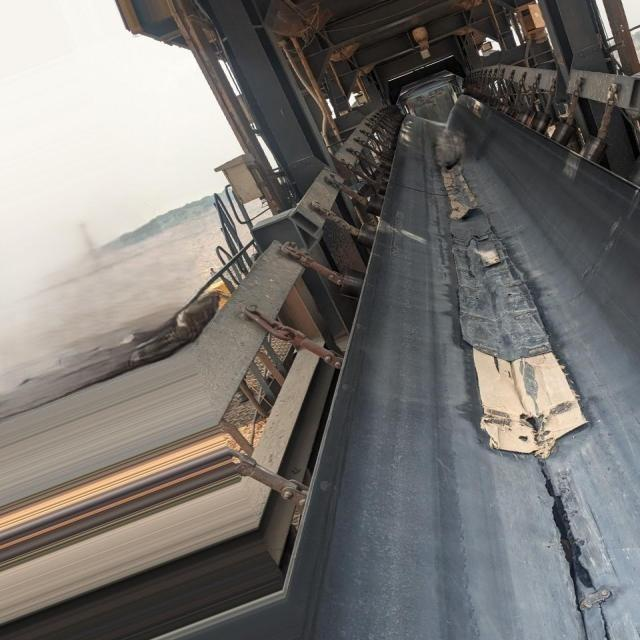Tear: (530, 451, 590, 640), (595, 601, 619, 640)
